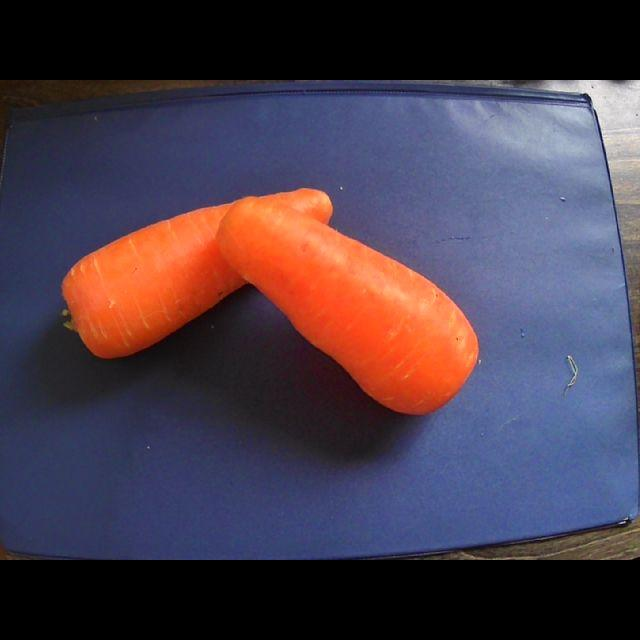zanahoria: (219, 200, 478, 413), (62, 204, 244, 358), (264, 188, 332, 223)
